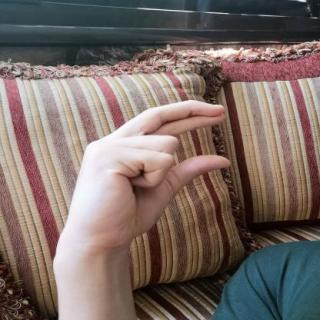DHELL: (52, 93, 240, 256)
